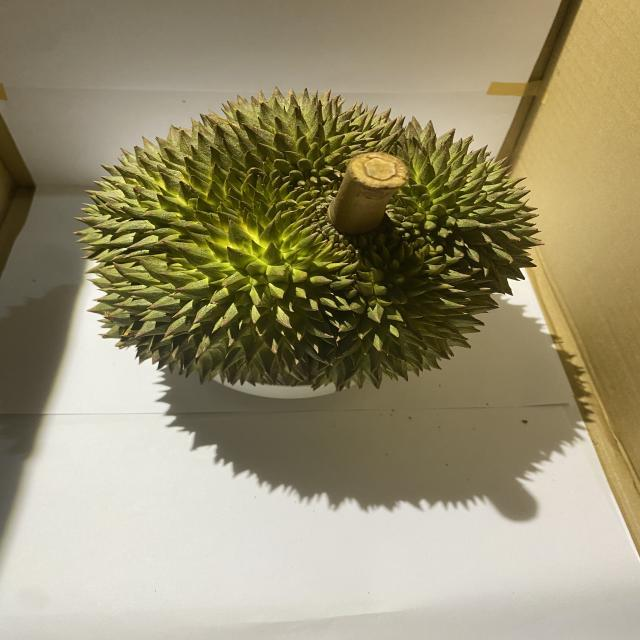immature: (73, 86, 547, 394)
